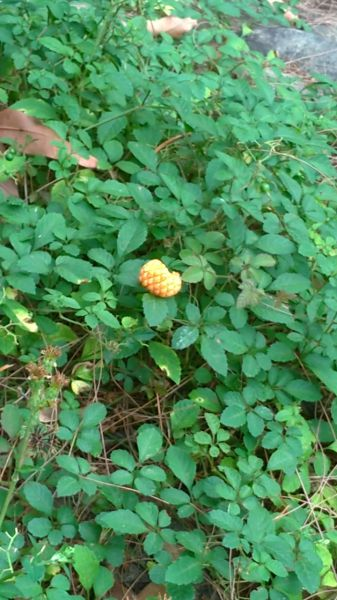eggs: (136, 256, 187, 299)
